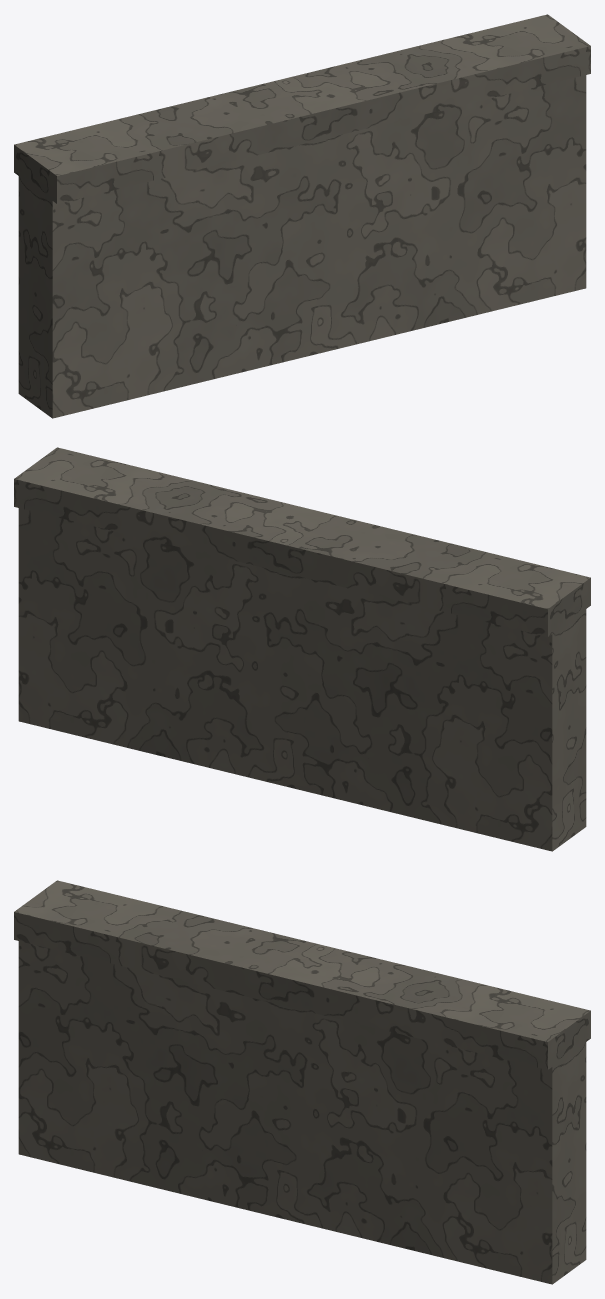
The model's file is parapet_straight_2m.glb.
3 views of the same model, one above another, from view 1: azimuth 30°, elevation 25°; view 2: azimuth 150°, elevation 25°; view 3: azimuth 330°, elevation 25° (orthographic).
Visible parts, largest first — view 1: parapet_straight_2m; view 2: parapet_straight_2m; view 3: parapet_straight_2m.
Boxes of the visible parts, x1,y1,x2,y2 form: parapet_straight_2m: [14, 14, 590, 418]; parapet_straight_2m: [14, 447, 590, 851]; parapet_straight_2m: [14, 880, 590, 1284].
Bounding box in the file's own units: 2 × 0.88 × 0.28.
1 material, 1 textured.
